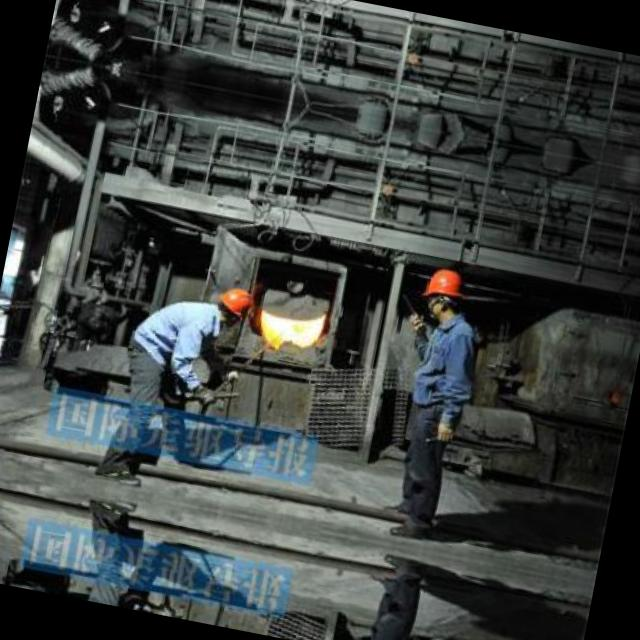helmet: (412, 262, 473, 328), (212, 283, 258, 327)
